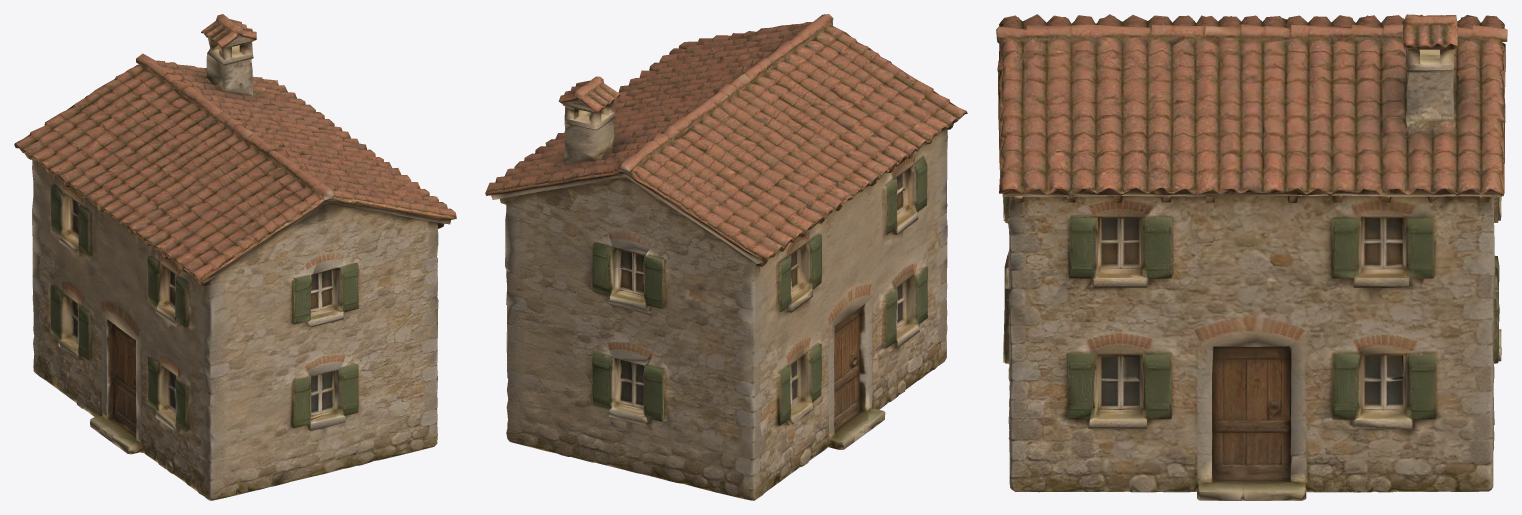
Rendered from house-farm.glb.
The picture shows the model from 3 angles, left to right: view 1: azimuth 30°, elevation 25°; view 2: azimuth 150°, elevation 25°; view 3: azimuth 270°, elevation 25°; orthographic projection. The views are drawn at different scales.
Parts seen in each view (by area): view 1: tripo_node_de63b30f-d2f0-4bbb-9509-404eadc41191; view 2: tripo_node_de63b30f-d2f0-4bbb-9509-404eadc41191; view 3: tripo_node_de63b30f-d2f0-4bbb-9509-404eadc41191.
Boxes of the visible parts, x1,y1,x2,y2 form: tripo_node_de63b30f-d2f0-4bbb-9509-404eadc41191: (14,14,456,500); tripo_node_de63b30f-d2f0-4bbb-9509-404eadc41191: (485,14,967,500); tripo_node_de63b30f-d2f0-4bbb-9509-404eadc41191: (996,14,1507,500).
Bounding box in the file's own units: 0.7988 × 0.953 × 1.
1 material, 1 textured.
